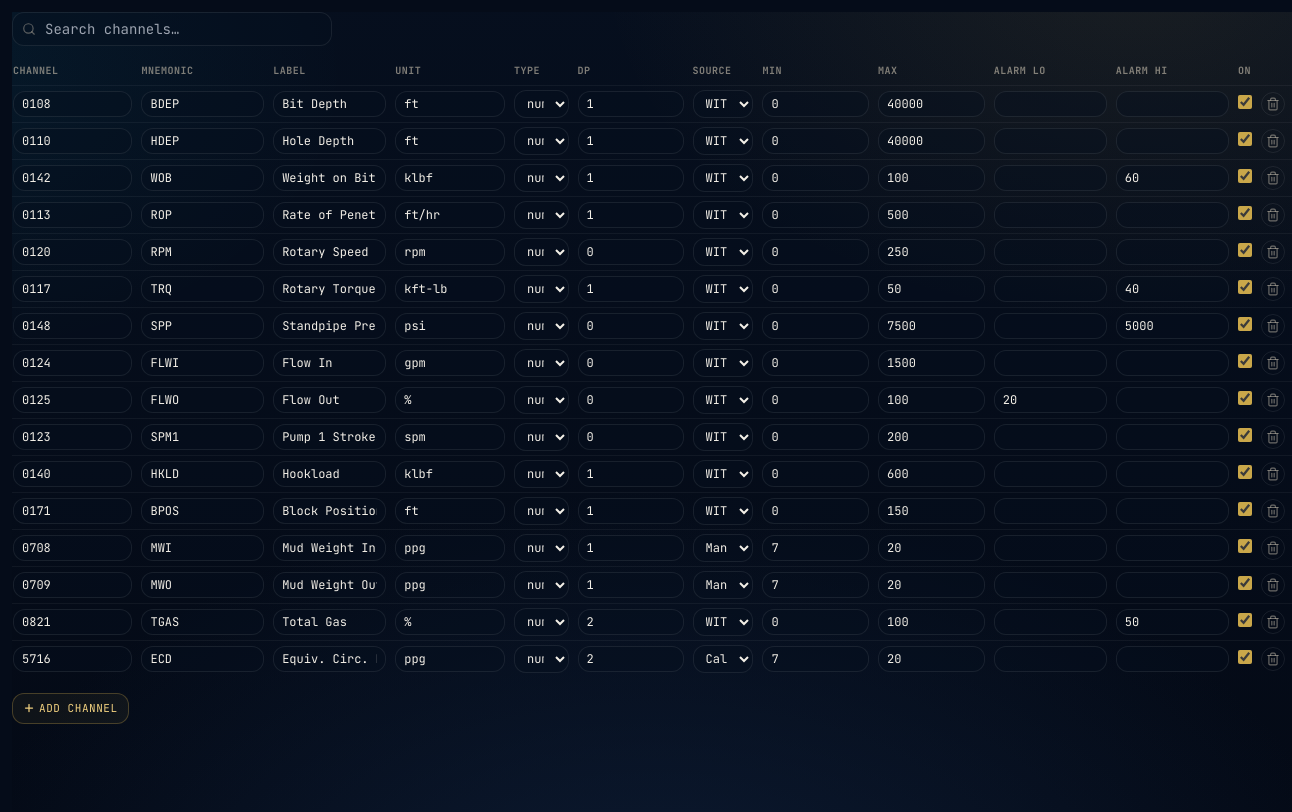
Test: ChannelRegistry › filters by search
Type "ROP" into the field labelled "Search channels…".
click(172, 29); type("ROP")  # box x1=12 y1=12 x2=332 y2=46
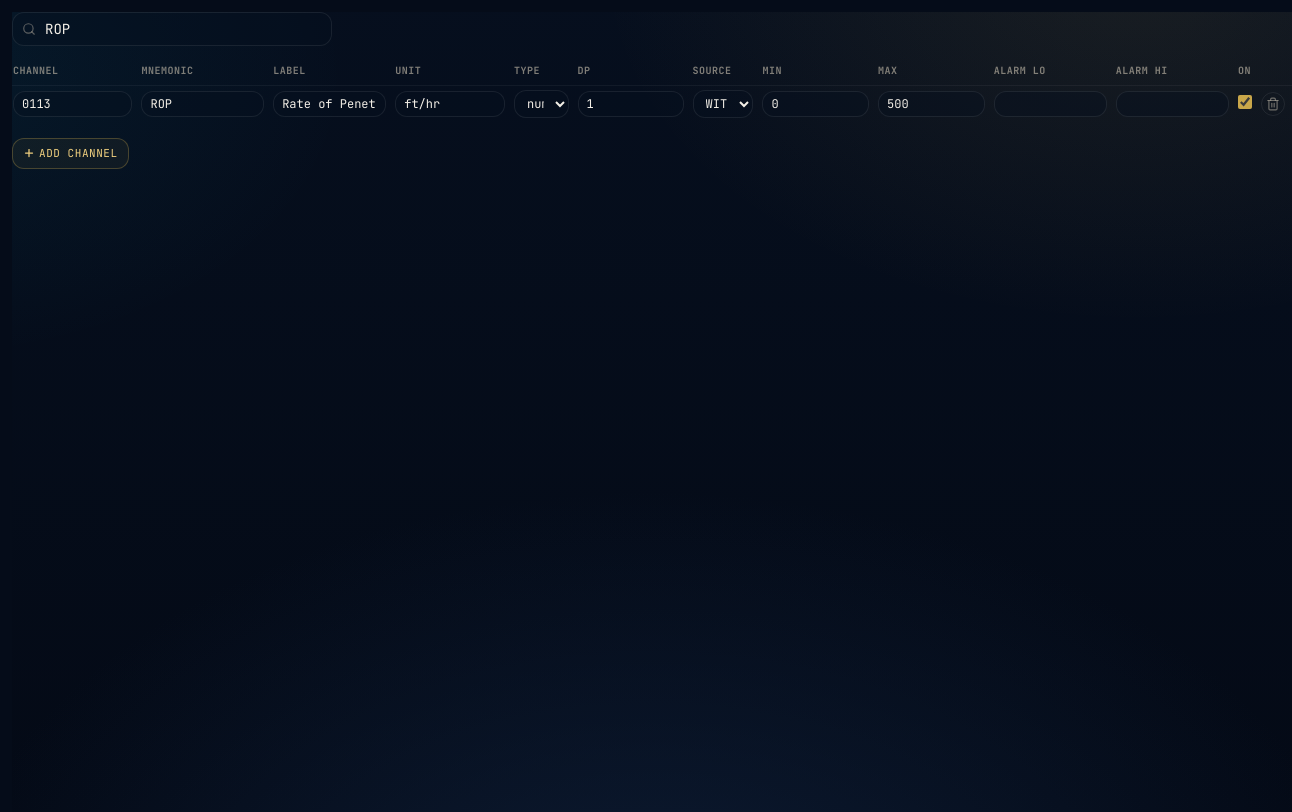
expect the number of rows with test id "channel-row" is 1: met, box x1=12 y1=86 x2=1291 y2=122
